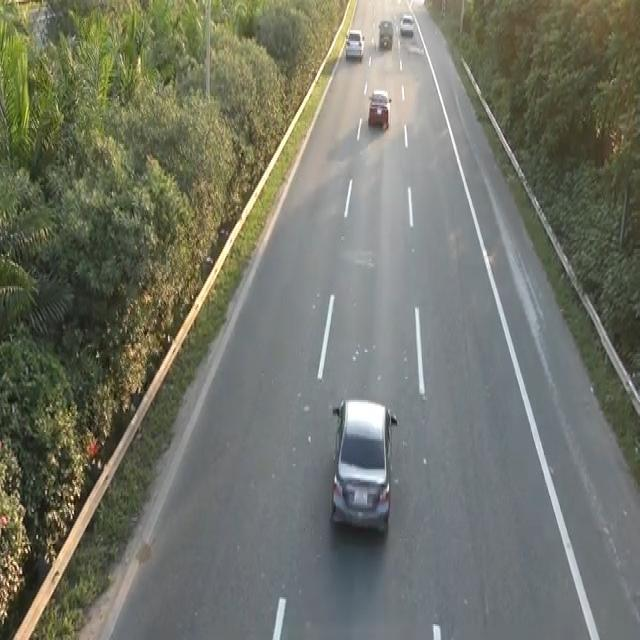bus: (327, 393, 400, 542), (366, 85, 391, 130)
car: (344, 25, 365, 60)
minivan: (377, 18, 393, 48)
